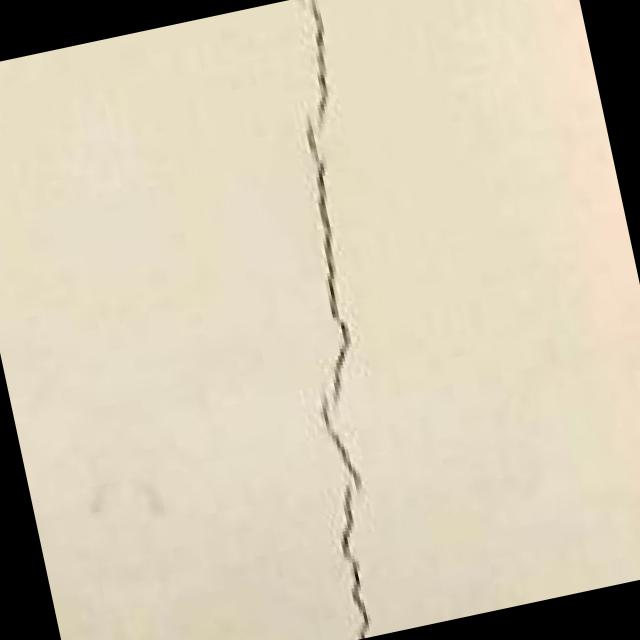crack: (175, 0, 492, 640)
